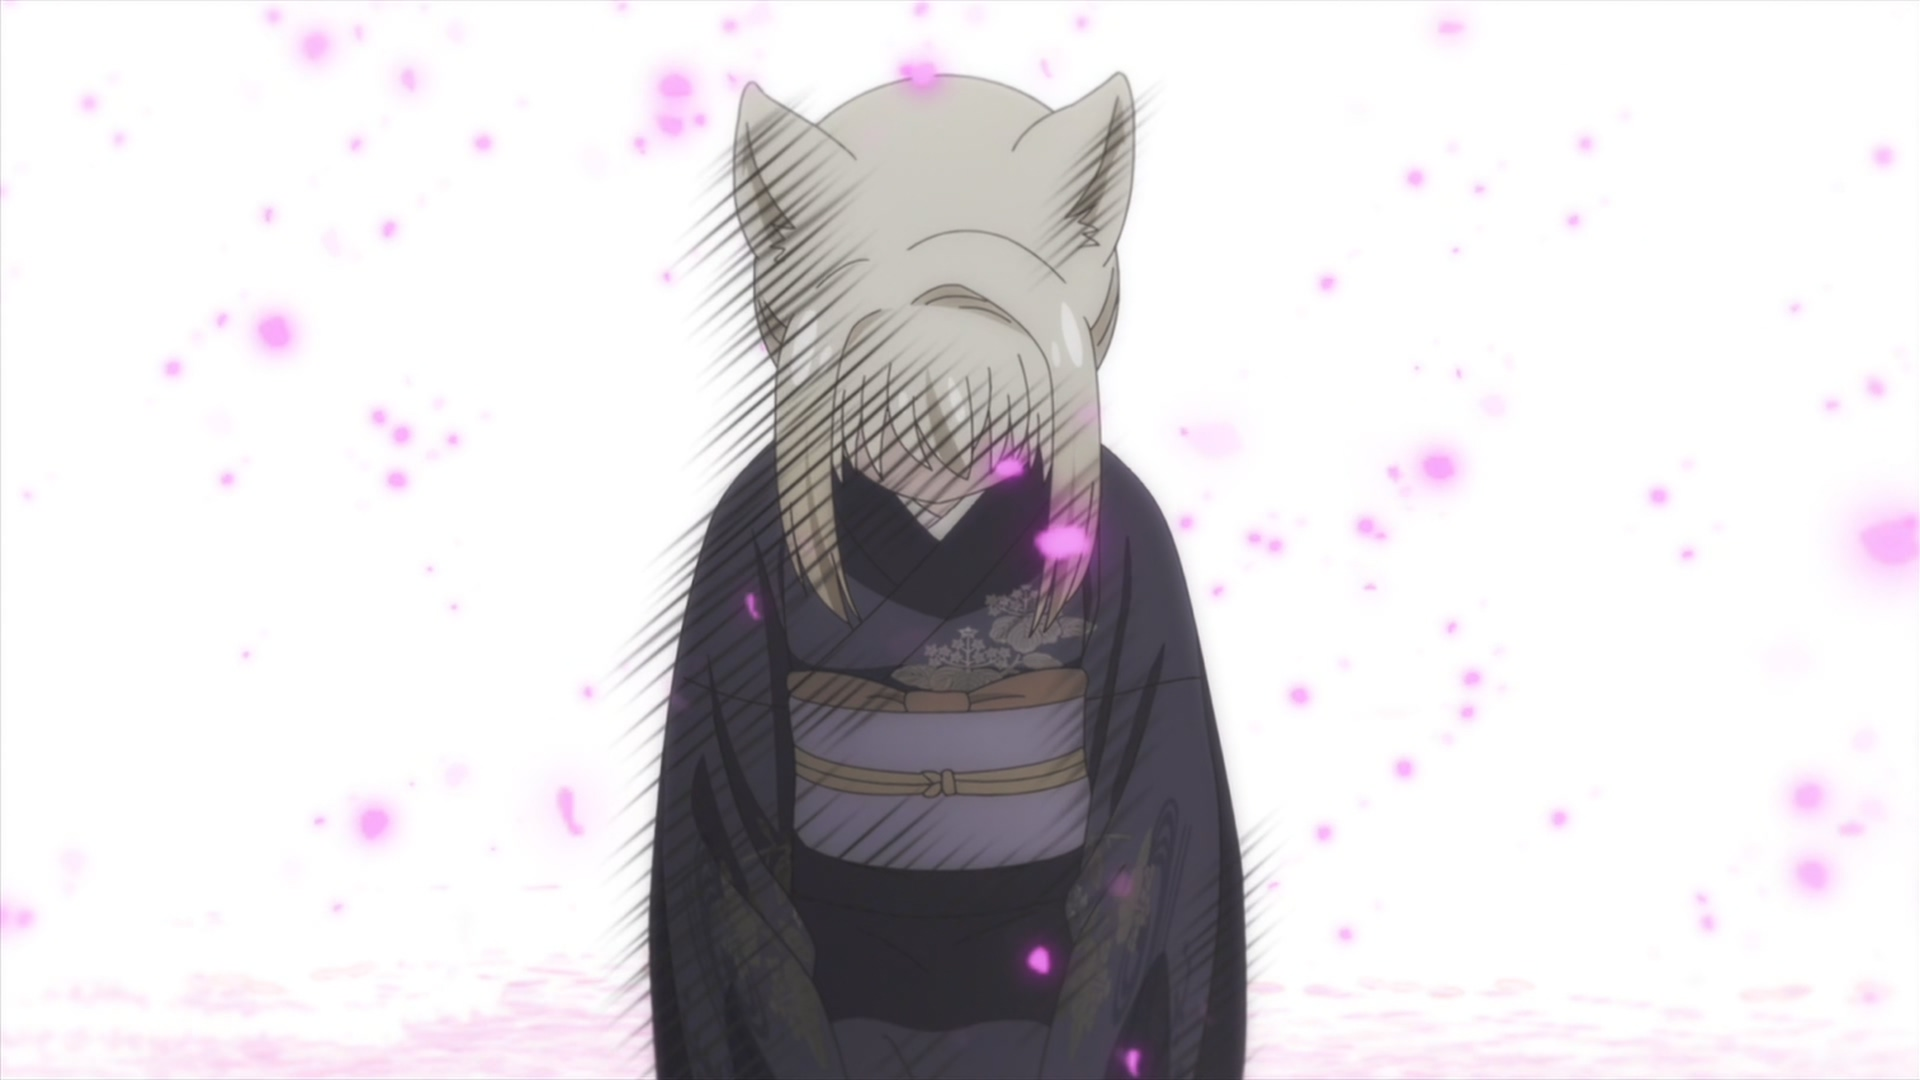桐: (647, 73, 1245, 1080)
